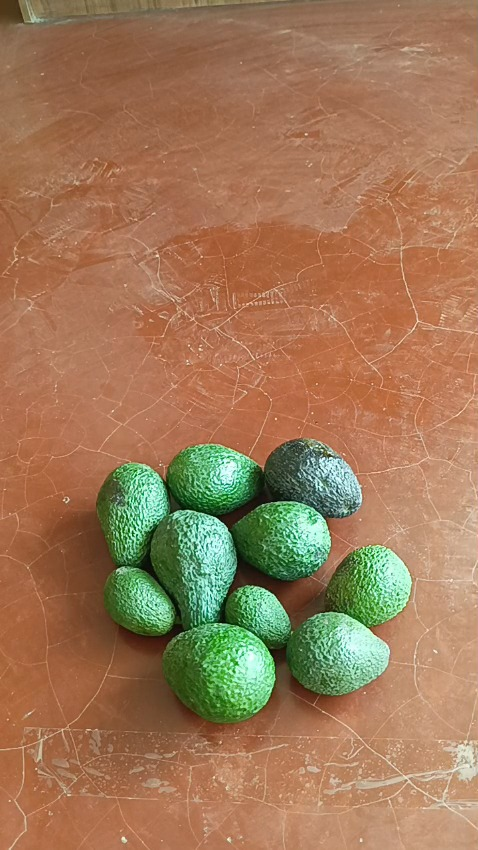Primera: (161, 619, 277, 720), (150, 510, 238, 629), (230, 501, 330, 581), (94, 461, 170, 566), (263, 439, 362, 517), (165, 443, 262, 515)
Segunda: (286, 611, 391, 696), (324, 545, 413, 627)
Tercera: (101, 564, 177, 637), (223, 583, 293, 650)
